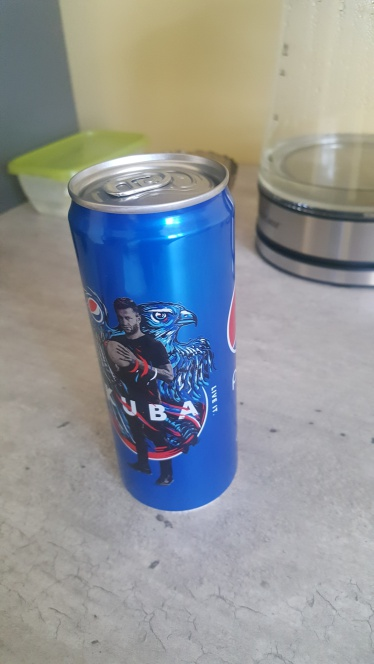pepsi: (55, 147, 268, 521)
